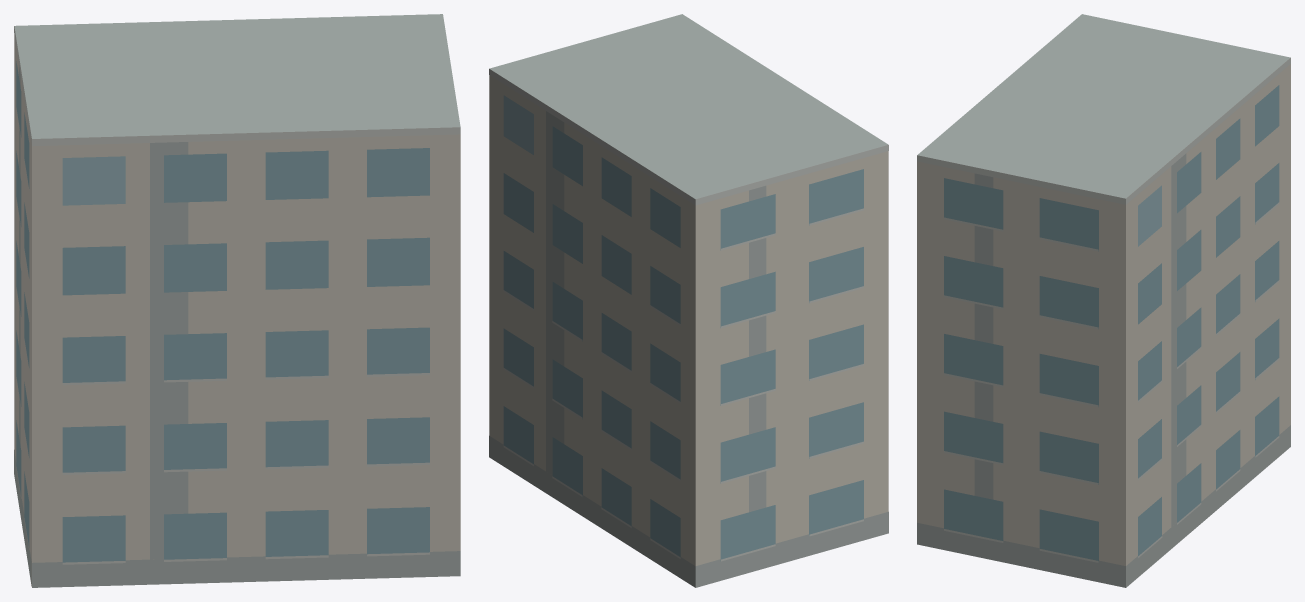
Rendered from residential-7c359c2c-3f3b-4539-8b4f-bd41fd372636.glb.
3 views of the same model, side by side, from view 1: azimuth 30°, elevation 25°; view 2: azimuth 150°, elevation 25°; view 3: azimuth 270°, elevation 25° (orthographic). The views are drawn at different scales.
Parts seen in each view (by area): view 1: residential-7c359c2c-3f3b-4539-8b4f-bd41fd372636.tmp; view 2: residential-7c359c2c-3f3b-4539-8b4f-bd41fd372636.tmp; view 3: residential-7c359c2c-3f3b-4539-8b4f-bd41fd372636.tmp.
Boxes of the visible parts, box(x1,y1,x2,y2) form: residential-7c359c2c-3f3b-4539-8b4f-bd41fd372636.tmp: box(14, 14, 460, 587); residential-7c359c2c-3f3b-4539-8b4f-bd41fd372636.tmp: box(489, 14, 888, 587); residential-7c359c2c-3f3b-4539-8b4f-bd41fd372636.tmp: box(917, 14, 1290, 587).
Bounding box in the file's own units: 15.52 × 15.25 × 13.28.
